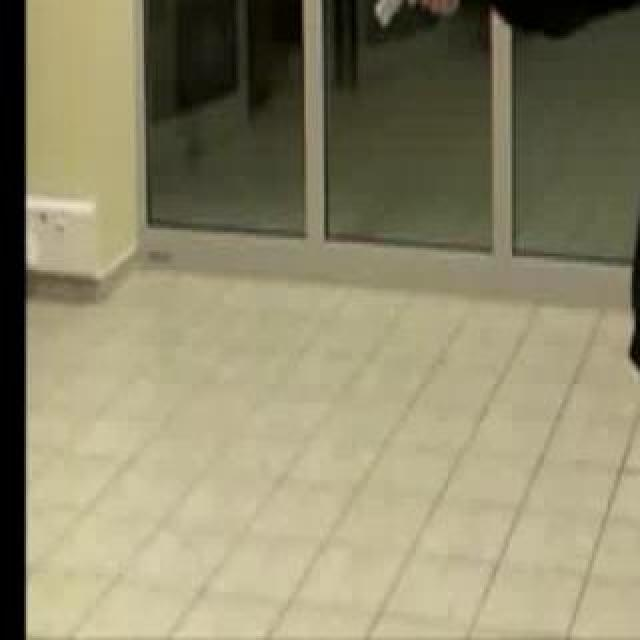Guns: (360, 0, 470, 42)
